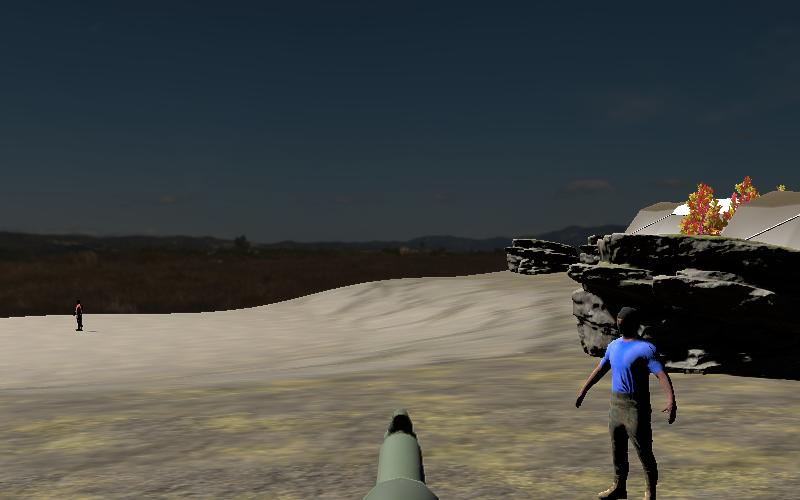Human: (569, 304, 681, 499)
